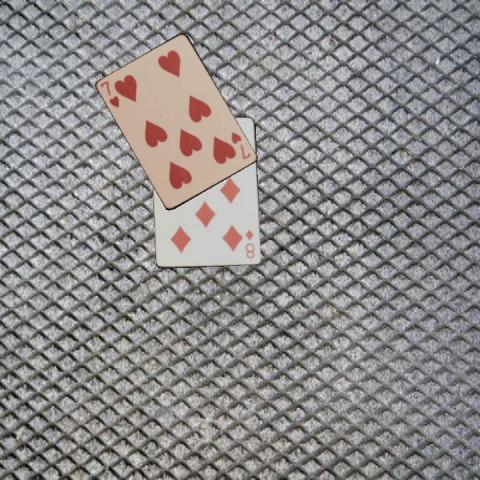7h: (228, 128, 253, 160), (97, 78, 121, 109)
8d: (243, 227, 256, 260)
